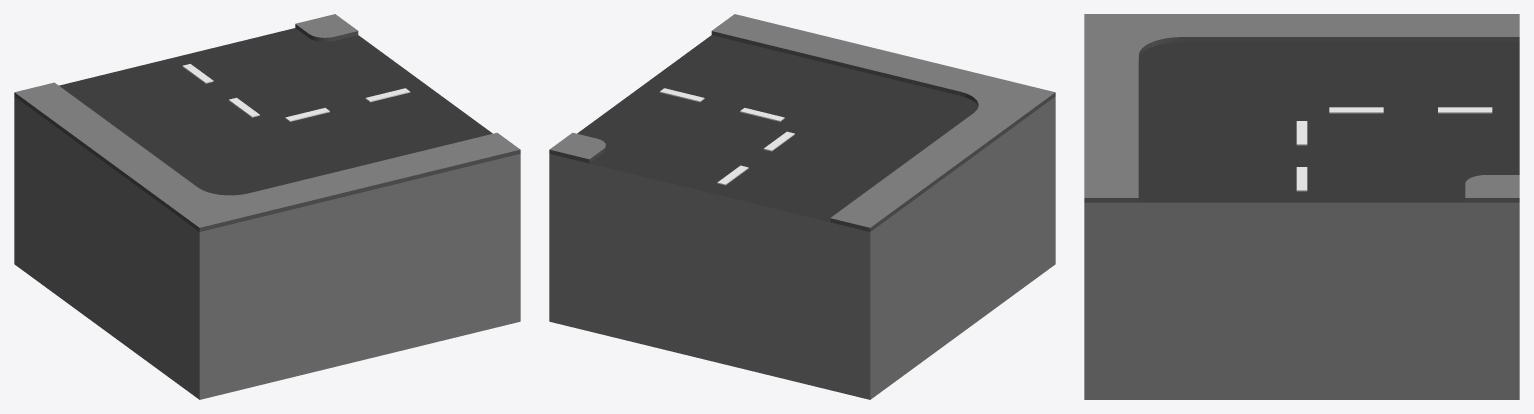
Rendered from CornerStreet90.glb.
3 views of the same model, side by side, from view 1: azimuth 30°, elevation 25°; view 2: azimuth 150°, elevation 25°; view 3: azimuth 270°, elevation 25° (orthographic). The views are drawn at different scales.
Parts seen in each view (by area): view 1: Cube, Cube.003, Cube.002, Cube.001, Cube.004, Cube.005, Line2, Line1; view 2: Cube, Cube.003, Cube.001, Cube.002, Cube.004, Cube.005, Line2, Line1; view 3: Cube, Cube.003, Cube.004, Cube.002, Cube.001, Cube.005, Line1, Line2.
Part boxes in pixels (bbox=[...]): Cube: bbox=[14, 96, 520, 399]; Cube.003: bbox=[59, 28, 492, 195]; Cube.002: bbox=[130, 167, 319, 231]; Cube.001: bbox=[297, 132, 520, 202]; Cube.004: bbox=[14, 82, 169, 180]; Cube.005: bbox=[295, 14, 358, 41]; Line2: bbox=[285, 88, 410, 121]; Line1: bbox=[182, 64, 259, 117]; Cube: bbox=[549, 96, 1055, 399]; Cube.003: bbox=[577, 35, 978, 221]; Cube.001: bbox=[711, 14, 934, 83]; Cube.002: bbox=[912, 63, 1055, 146]; Cube.004: bbox=[830, 133, 985, 231]; Cube.005: bbox=[549, 132, 605, 163]; Line2: bbox=[659, 88, 784, 121]; Line1: bbox=[717, 131, 794, 185]; Cube: bbox=[1084, 202, 1519, 399]; Cube.003: bbox=[1138, 42, 1519, 202]; Cube.004: bbox=[1247, 14, 1519, 41]; Cube.002: bbox=[1084, 14, 1247, 82]; Cube.001: bbox=[1084, 83, 1138, 202]; Cube.005: bbox=[1465, 175, 1519, 202]; Line1: bbox=[1329, 107, 1492, 113]; Line2: bbox=[1296, 121, 1307, 191].
Bounding box in the file's own units: 16 × 8.2 × 16.
Materials: 2 (2 with a texture image).
